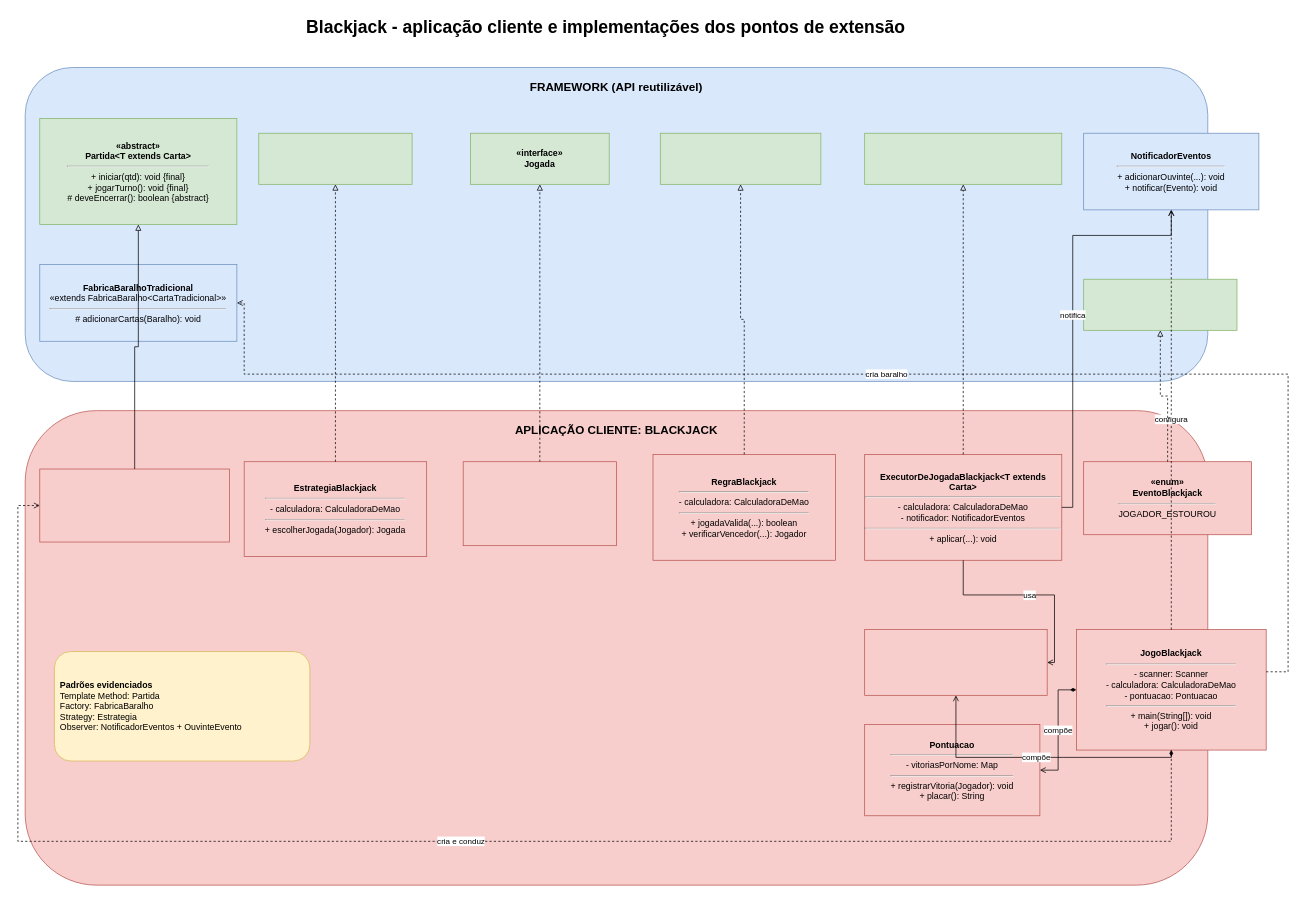
Some shapes in this 1307 by 898 pixel diagram are drawn without their labels. The centre of each missing label's shape, as x and y in pixels:
"CalculadoraDeMao + calcularPontuacao(Jogador): int" belongs at (x=955, y=662).
"JogadaBlackjack - acao: String + getAcao(): String" belongs at (x=539, y=503).
"PartidaBlackjack<T extends Carta> # deveEncerrar(): boolean" belongs at (x=134, y=505).
"«interface» Estrategia" belongs at (x=335, y=158).
"«interface» ExecutorDeJogada<T extends Carta>" belongs at (x=963, y=158).
"«interface» RegraJogo" belongs at (x=740, y=158).
"«interface» TipoEvento" belongs at (x=1160, y=304).
